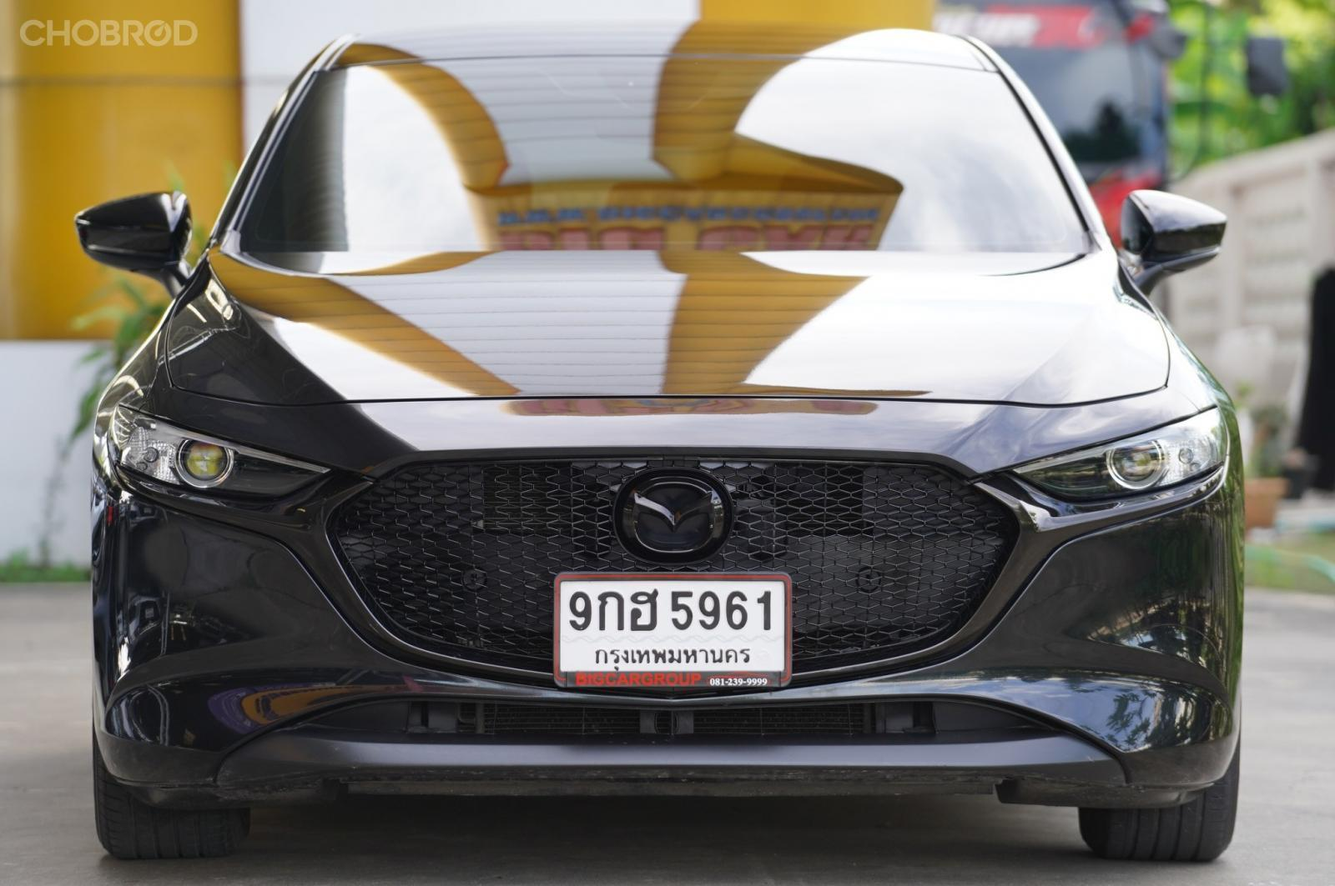license-plate: (545, 562, 800, 699)
